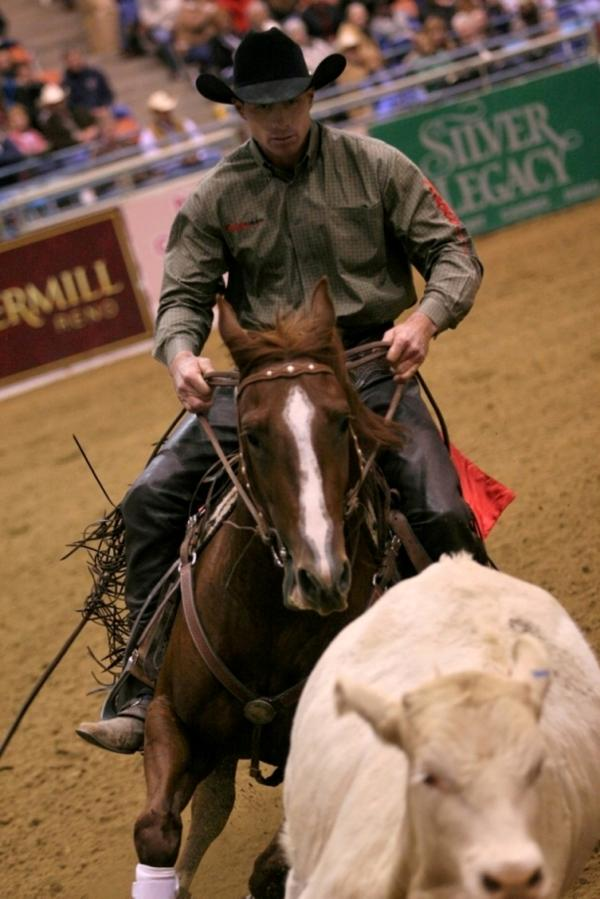person: (75, 25, 502, 759)
